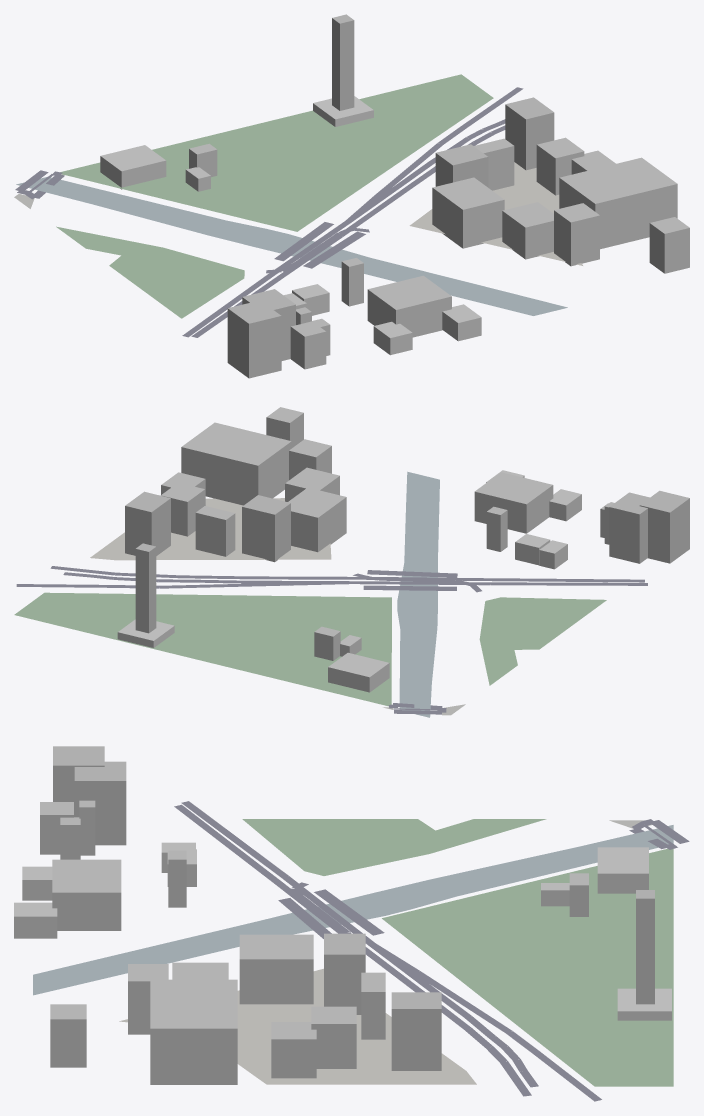
File: 130_96_mid.glb
3 views of the same model, one above another, from view 1: azimuth 30°, elevation 25°; view 2: azimuth 150°, elevation 25°; view 3: azimuth 270°, elevation 25° (orthographic). The views are drawn at different scales.
Size of the model in its own units: 556 by 103 by 527.
